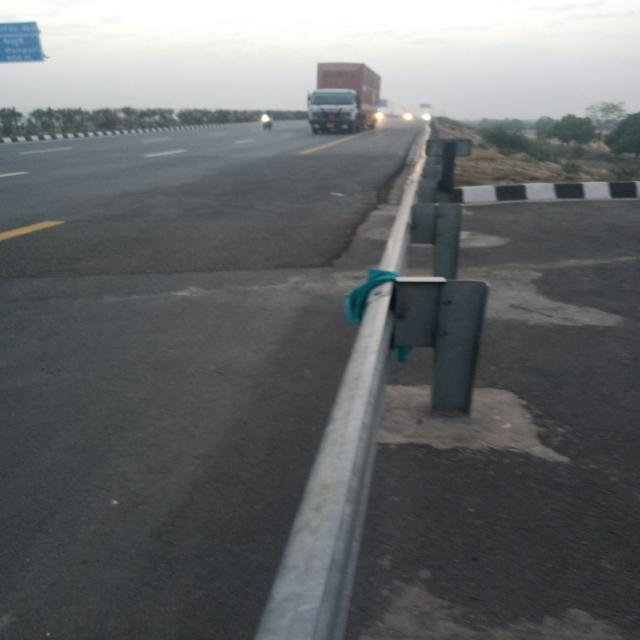Bike: (247, 115, 281, 151)
Truck: (296, 57, 386, 139)
